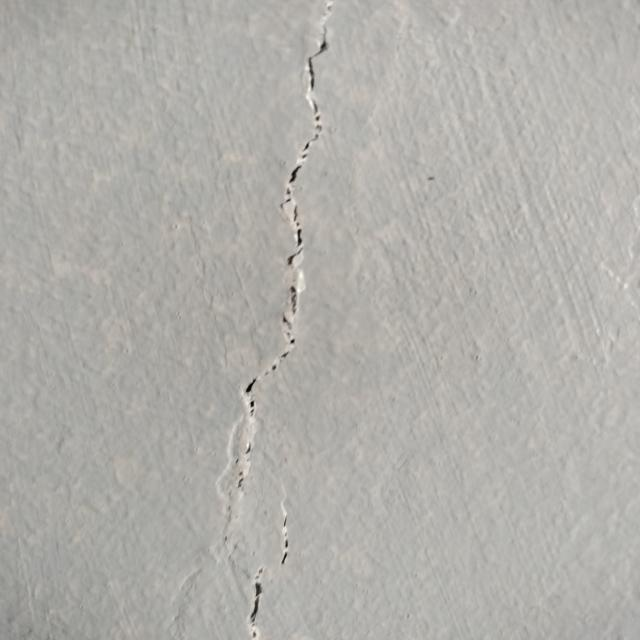Crack: (206, 0, 338, 640)
